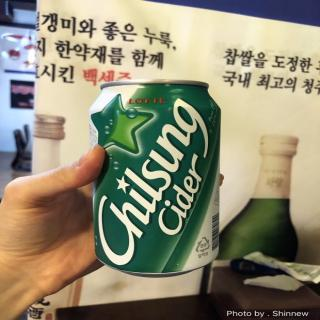cocacola: (88, 77, 222, 280)
